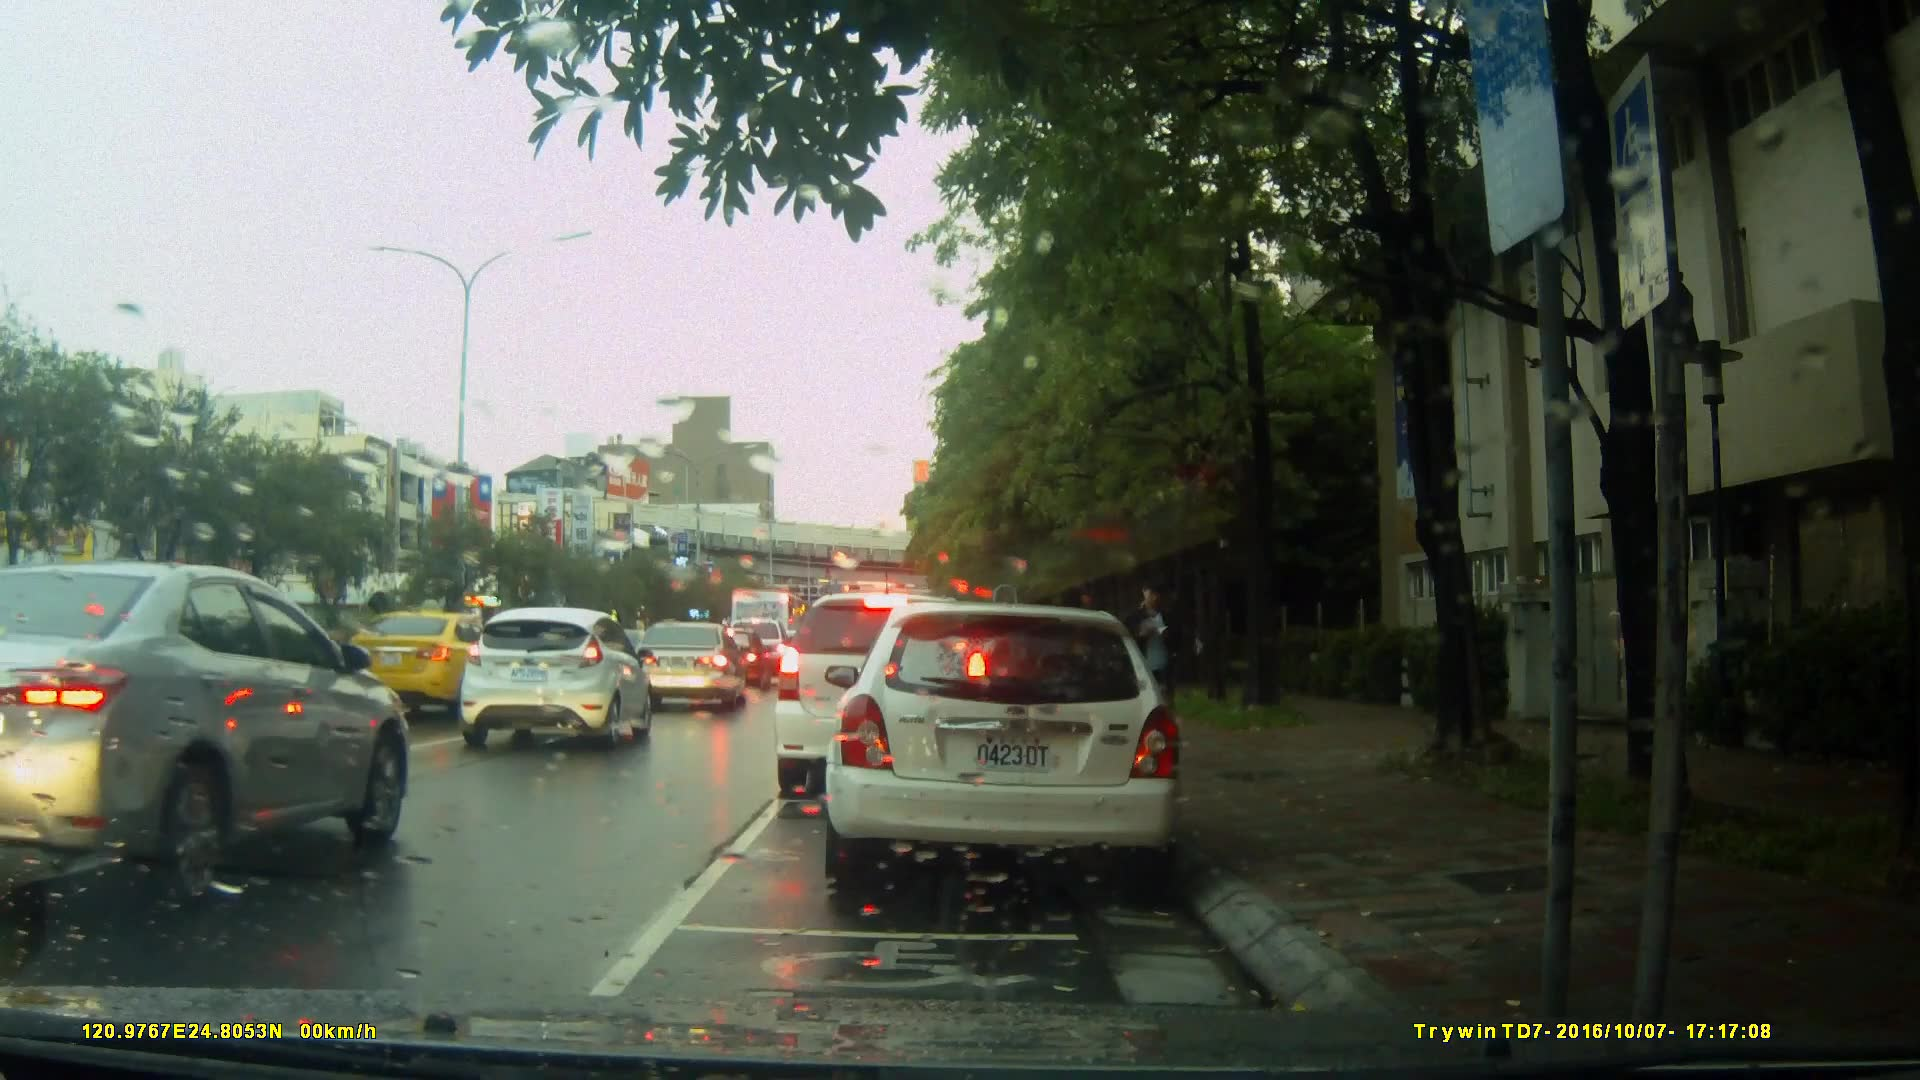vehicle: (1, 560, 414, 913), (835, 593, 1193, 898), (775, 589, 1026, 785), (456, 607, 655, 750), (345, 608, 517, 727), (630, 620, 750, 723), (717, 589, 818, 682), (702, 628, 771, 690)
